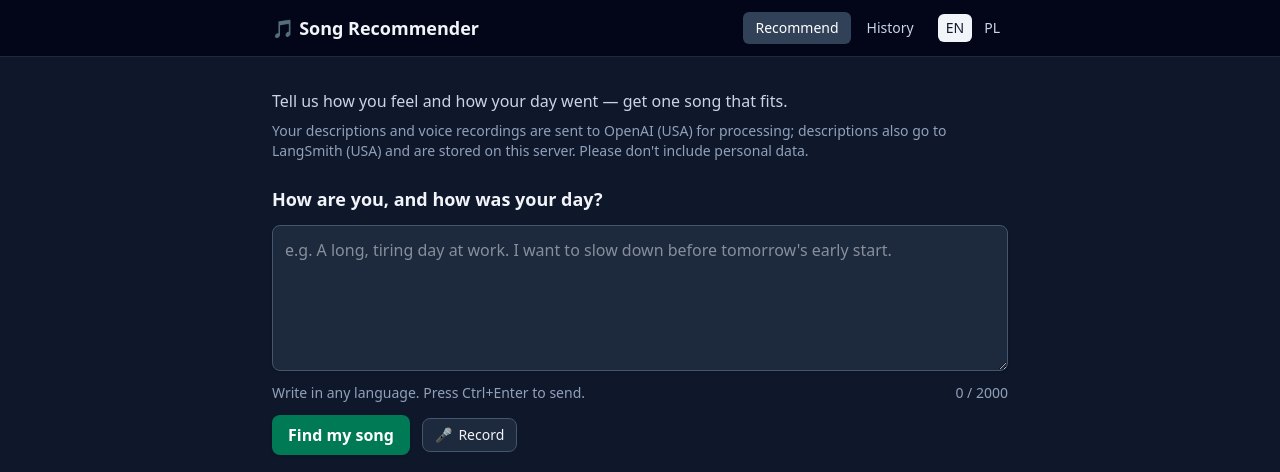
Test: voice input › reports a missing microphone
The width and height of the screenshot is (1280, 472).
Click the button "🎤 Record": (470, 435) x1=422 y1=418 x2=517 y2=452
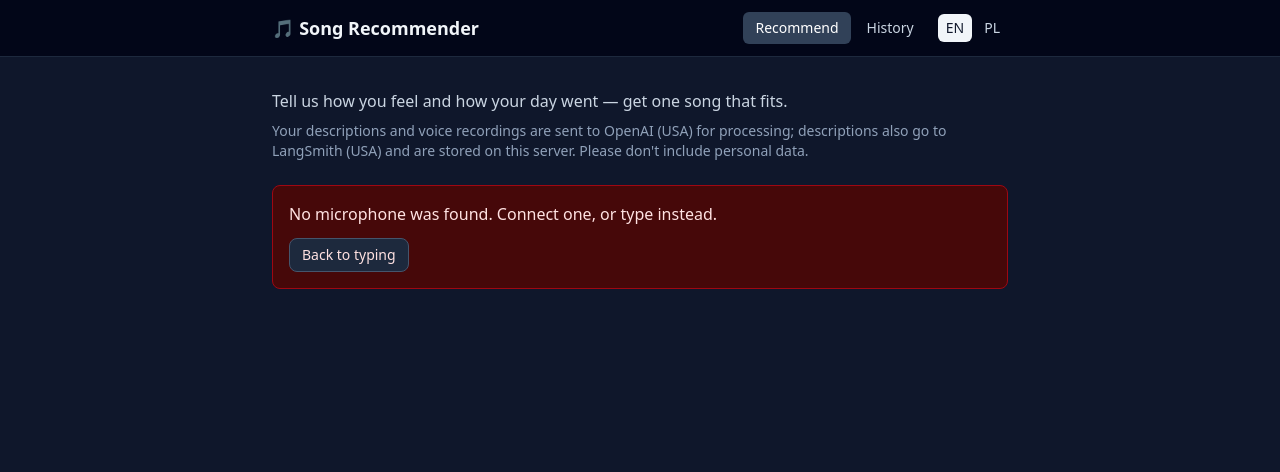
Check: the message shows "No microphone was found.", box x1=289 y1=203 x2=717 y2=225
